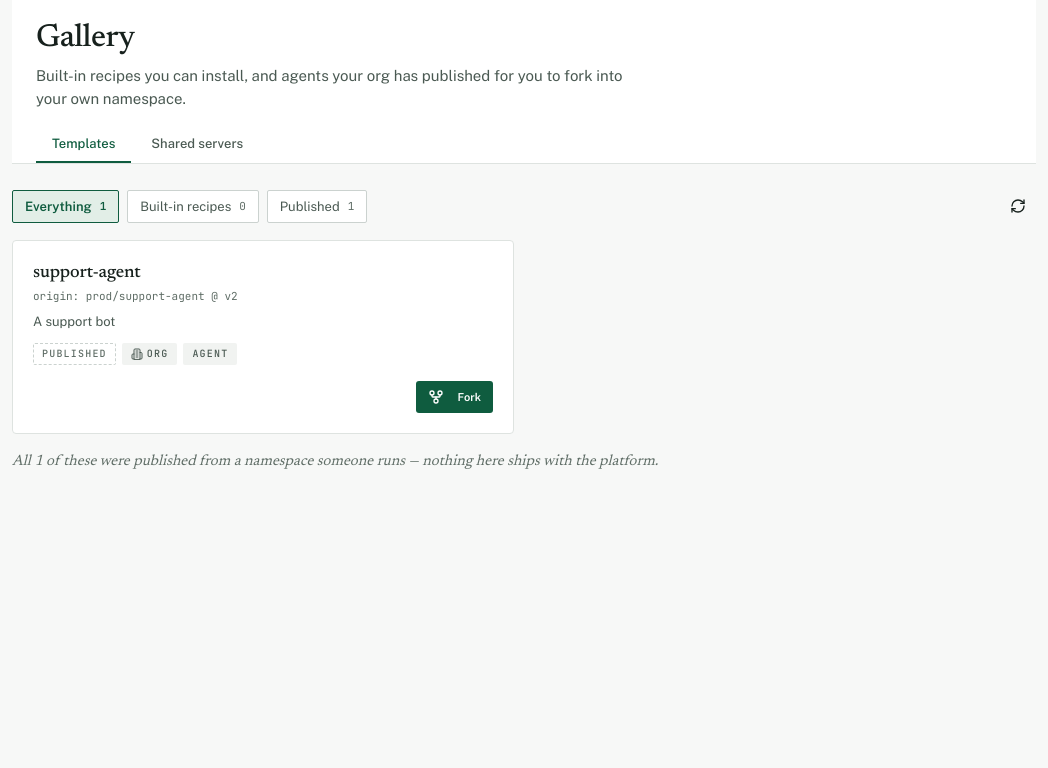
Test: TemplateGalleryPage — templates tab › shows needs-attention toast when fork returns dangling refs
Step 1. Click the button "Fork" → (454, 397), box [416,381,493,413]
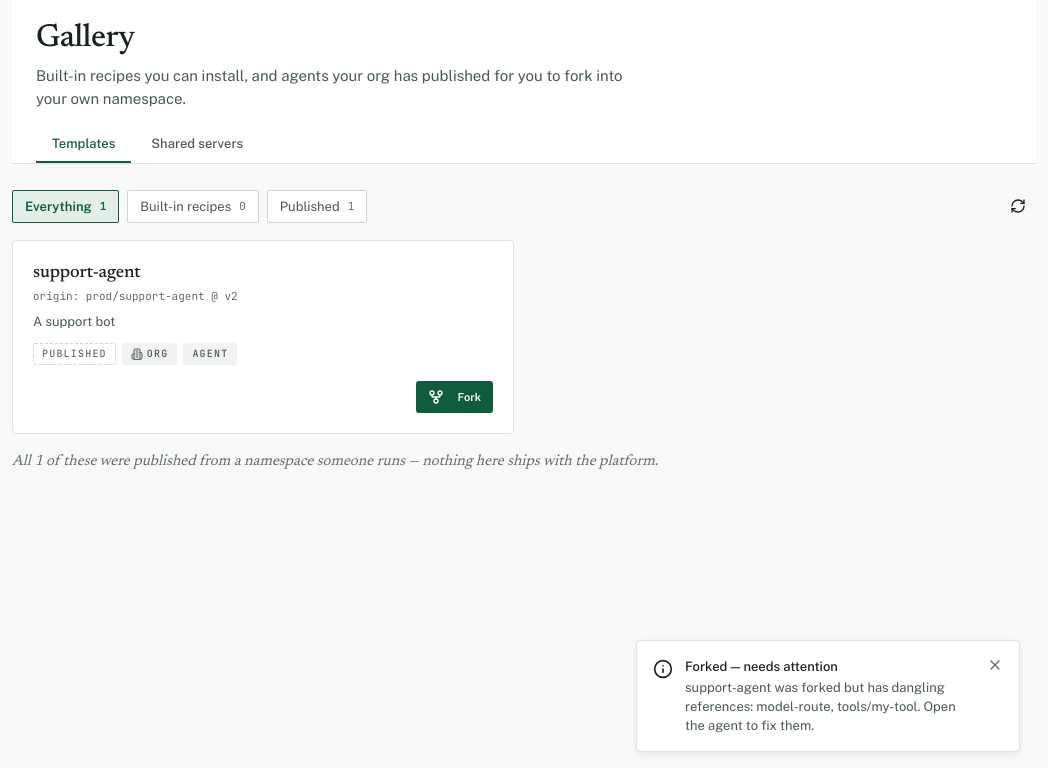
Now the text "Forked — needs attention" is shown, box [685,659,838,674]
Now the text "model-route" is shown, box [685,680,956,733]
